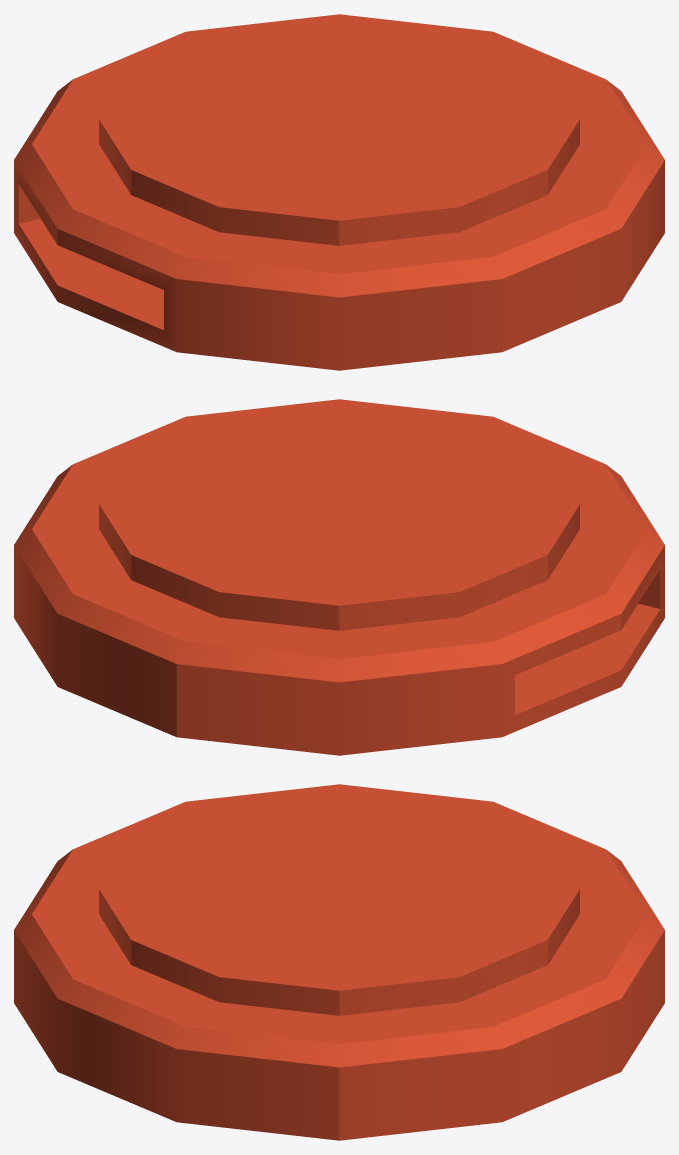
The model's file is Roumba.fbx.
3 views of the same model, one above another, from view 1: azimuth 30°, elevation 25°; view 2: azimuth 150°, elevation 25°; view 3: azimuth 270°, elevation 25° (orthographic).
Visible parts, largest first — view 1: Cylinder; view 2: Cylinder; view 3: Cylinder.
Part boxes in pixels (left/top/right/bottom): Cylinder: left=14, top=14, right=664, bottom=370; Cylinder: left=14, top=399, right=664, bottom=755; Cylinder: left=14, top=784, right=664, bottom=1140.
Bounding box in the file's own units: 200 × 38.67 × 200.
